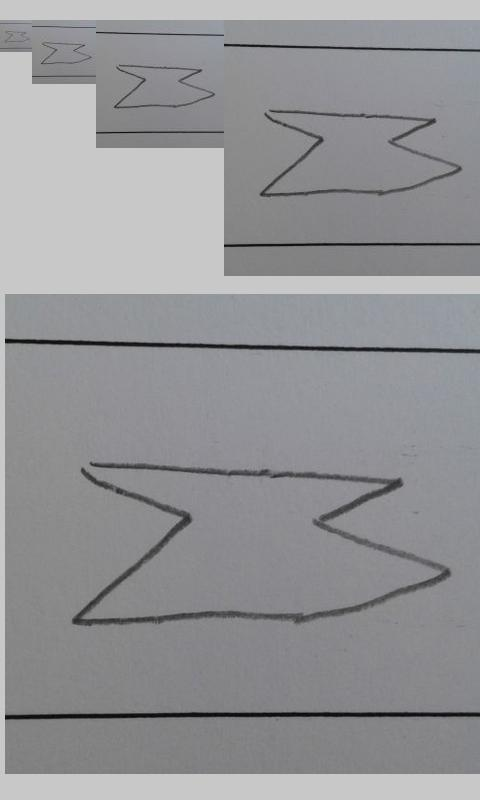edit_text: (76, 459, 454, 636), (260, 108, 462, 199), (114, 63, 215, 109), (41, 41, 92, 65), (5, 30, 30, 43)
